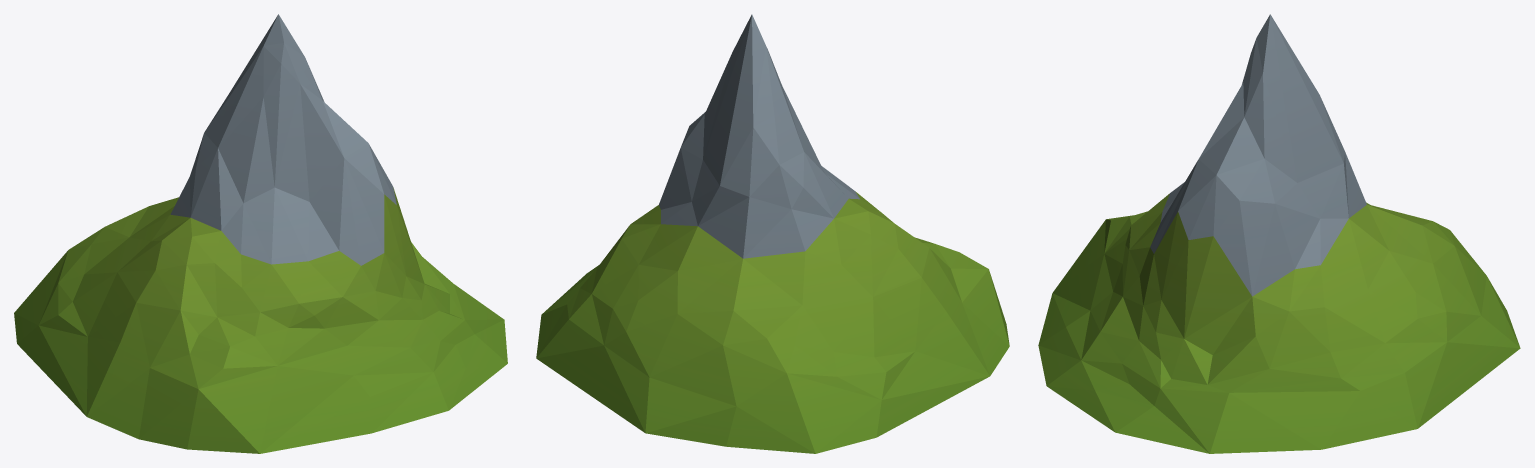
The model's file is Mountain_02.fbx.
3 renders of one model, left to right at view 1: azimuth 30°, elevation 25°; view 2: azimuth 150°, elevation 25°; view 3: azimuth 270°, elevation 25°, orthographic. The views are drawn at different scales.
Parts seen in each view (by area): view 1: Mountain_02; view 2: Mountain_02; view 3: Mountain_02.
Part boxes in pixels (bbox=[...]): Mountain_02: bbox=[14, 14, 507, 453]; Mountain_02: bbox=[536, 14, 1009, 453]; Mountain_02: bbox=[1038, 14, 1520, 453].
Bounding box in the file's own units: 6097 × 4684 × 5996.
